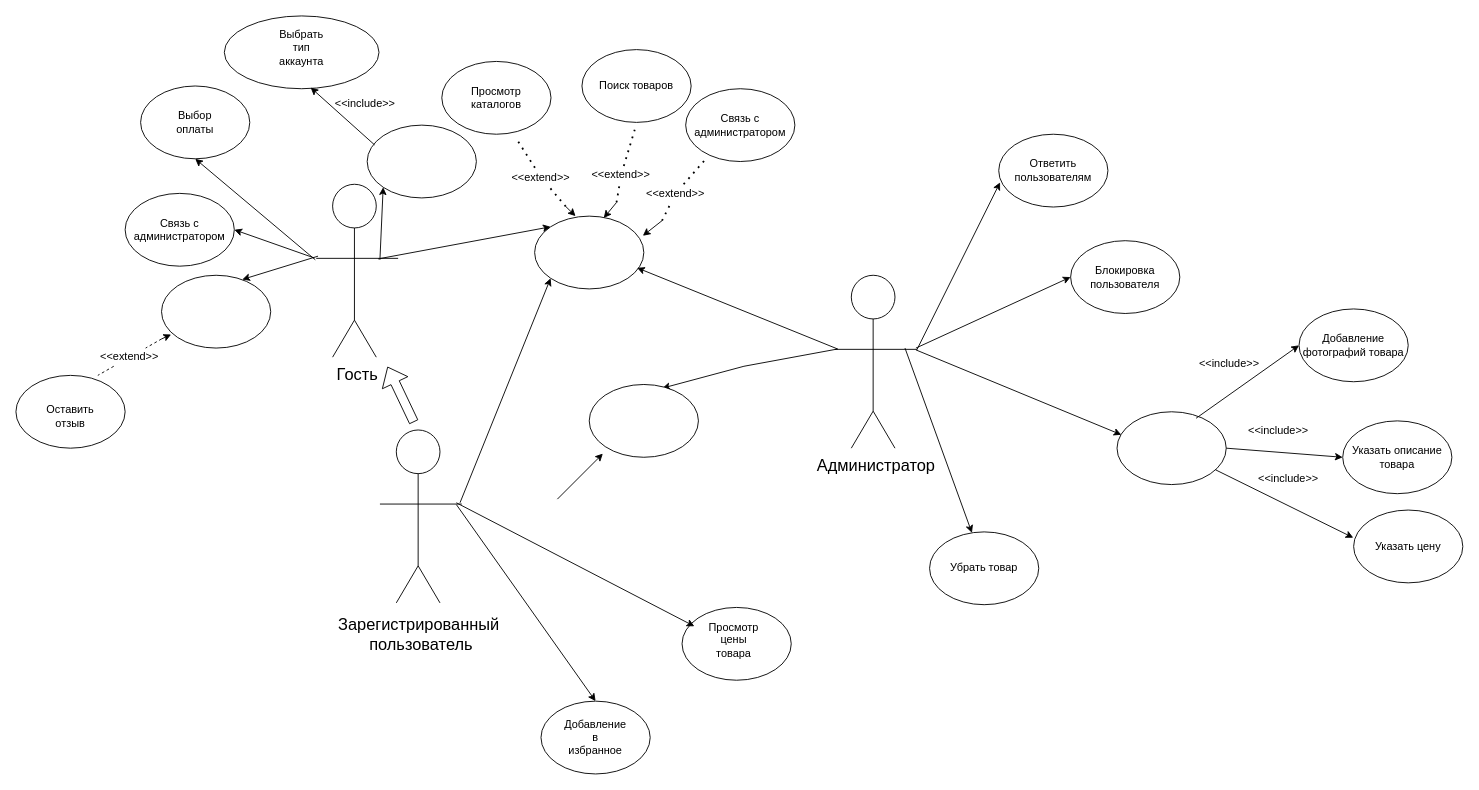
This 1479x790 diagram has some shape labels left out. Each missing label, with the centre of its shape:
"Добавление товара" goes at (x=1171, y=448).
"Забронировать товар" goes at (x=216, y=311).
"Зарегистриваться" goes at (x=421, y=161).
"Отправка на обработку данных" goes at (x=643, y=420).
"Просмотр товаров" goes at (x=589, y=252).
